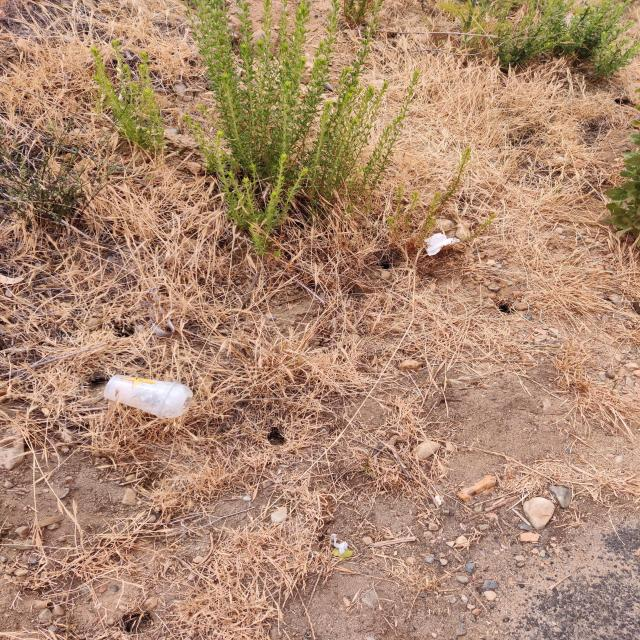litter: (104, 374, 193, 418), (424, 233, 459, 256)
